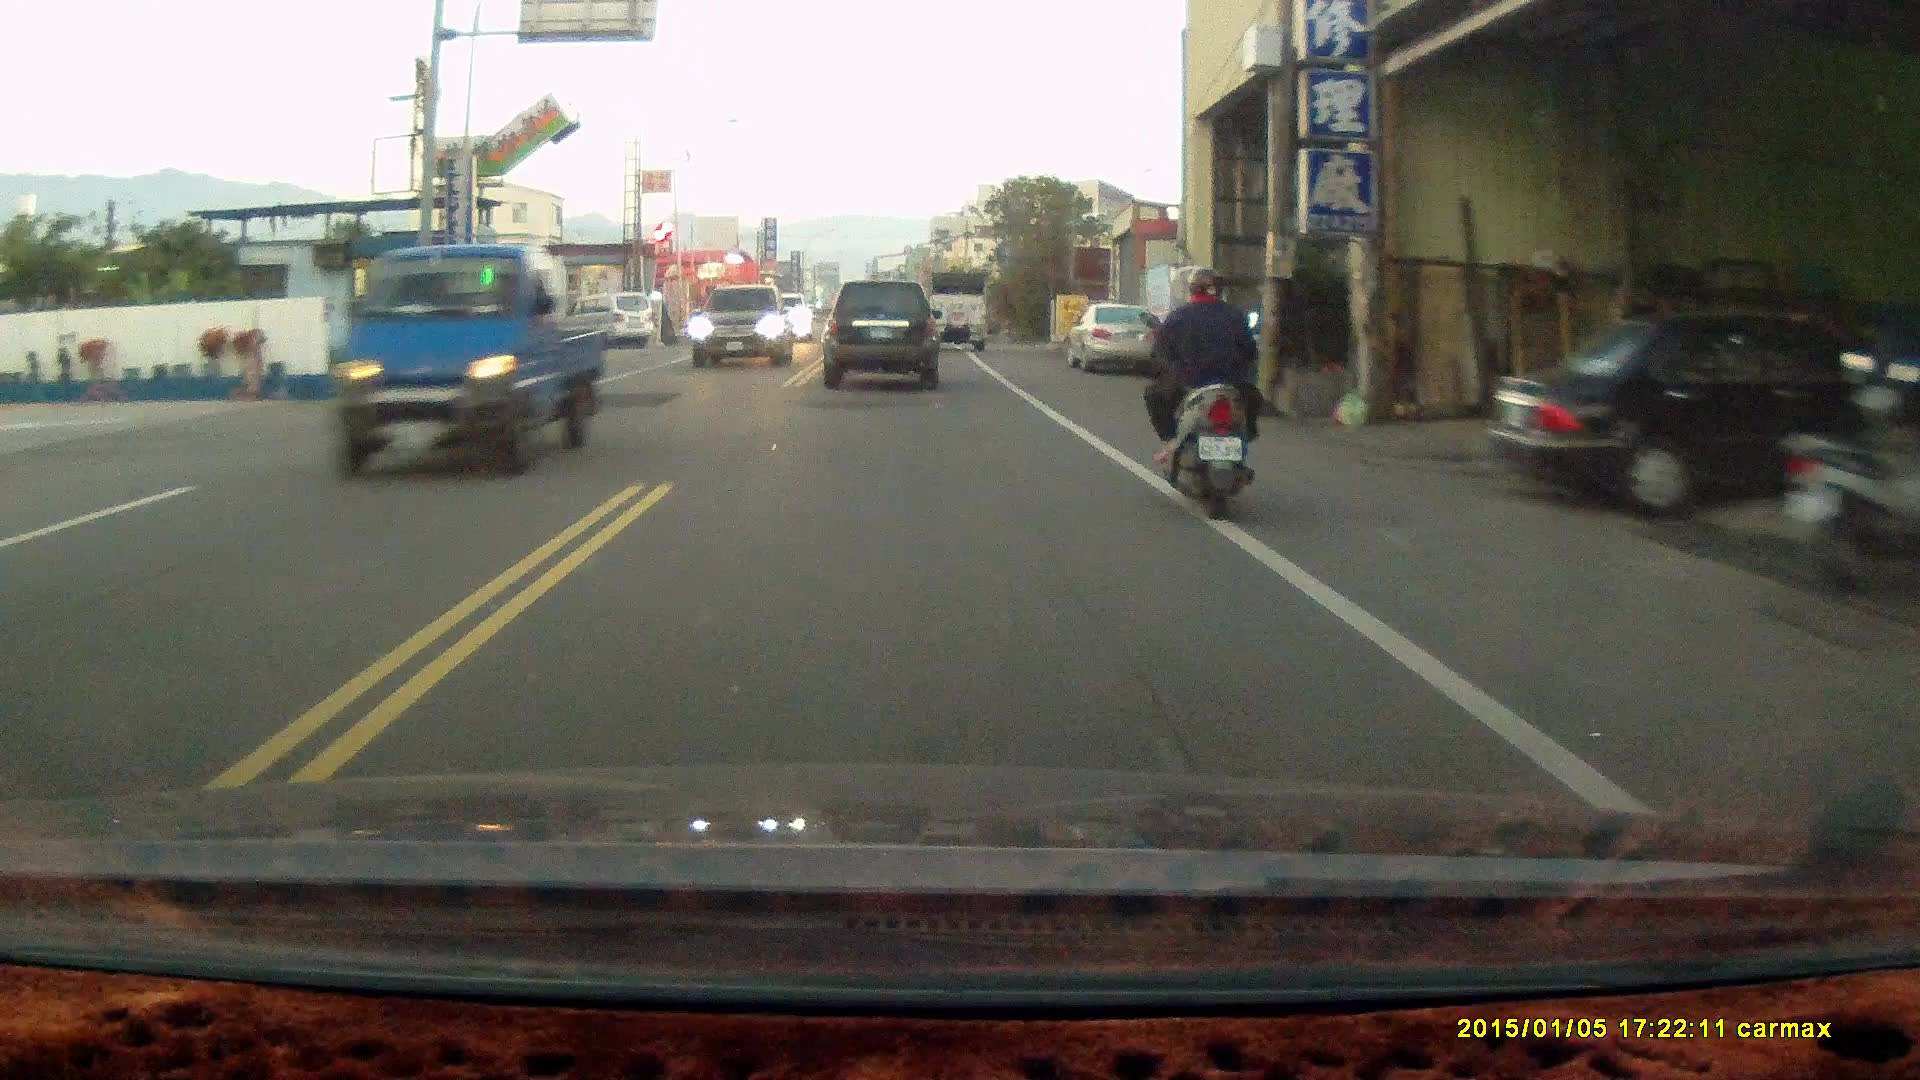rider: (1136, 261, 1264, 523)
vehicle: (1487, 304, 1906, 525), (329, 246, 616, 479), (824, 277, 942, 391), (696, 282, 801, 366), (1068, 303, 1161, 376), (925, 270, 994, 352), (563, 290, 657, 349)
